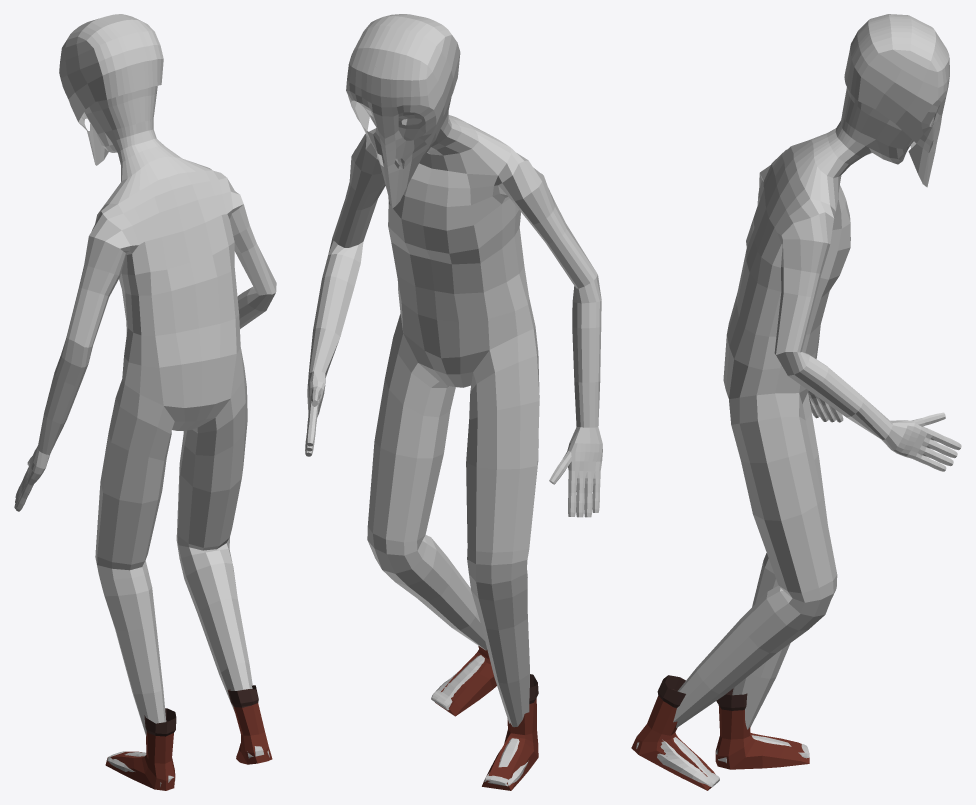
File: marcha5_000047.obj
3 views of the same model, side by side, from view 1: azimuth 30°, elevation 25°; view 2: azimuth 150°, elevation 25°; view 3: azimuth 270°, elevation 25° (orthographic). The views are drawn at different scales.
Visible parts, largest first — view 1: Plane.002_Plane.001, Plane.004, Plane.003; view 2: Plane.002_Plane.001, Plane.004, Plane.003; view 3: Plane.002_Plane.001, Plane.004, Plane.003.
Boxes of the visible parts, bbox=[...] form: Plane.002_Plane.001: bbox=[14, 14, 276, 786]; Plane.004: bbox=[105, 708, 176, 790]; Plane.003: bbox=[227, 685, 272, 764]; Plane.002_Plane.001: bbox=[305, 14, 602, 786]; Plane.004: bbox=[482, 674, 538, 790]; Plane.003: bbox=[435, 646, 496, 716]; Plane.002_Plane.001: bbox=[636, 14, 961, 786]; Plane.004: bbox=[715, 688, 809, 769]; Plane.003: bbox=[631, 675, 715, 790].
Size of the model in its own units: 2.46 by 6.69 by 2.65.
